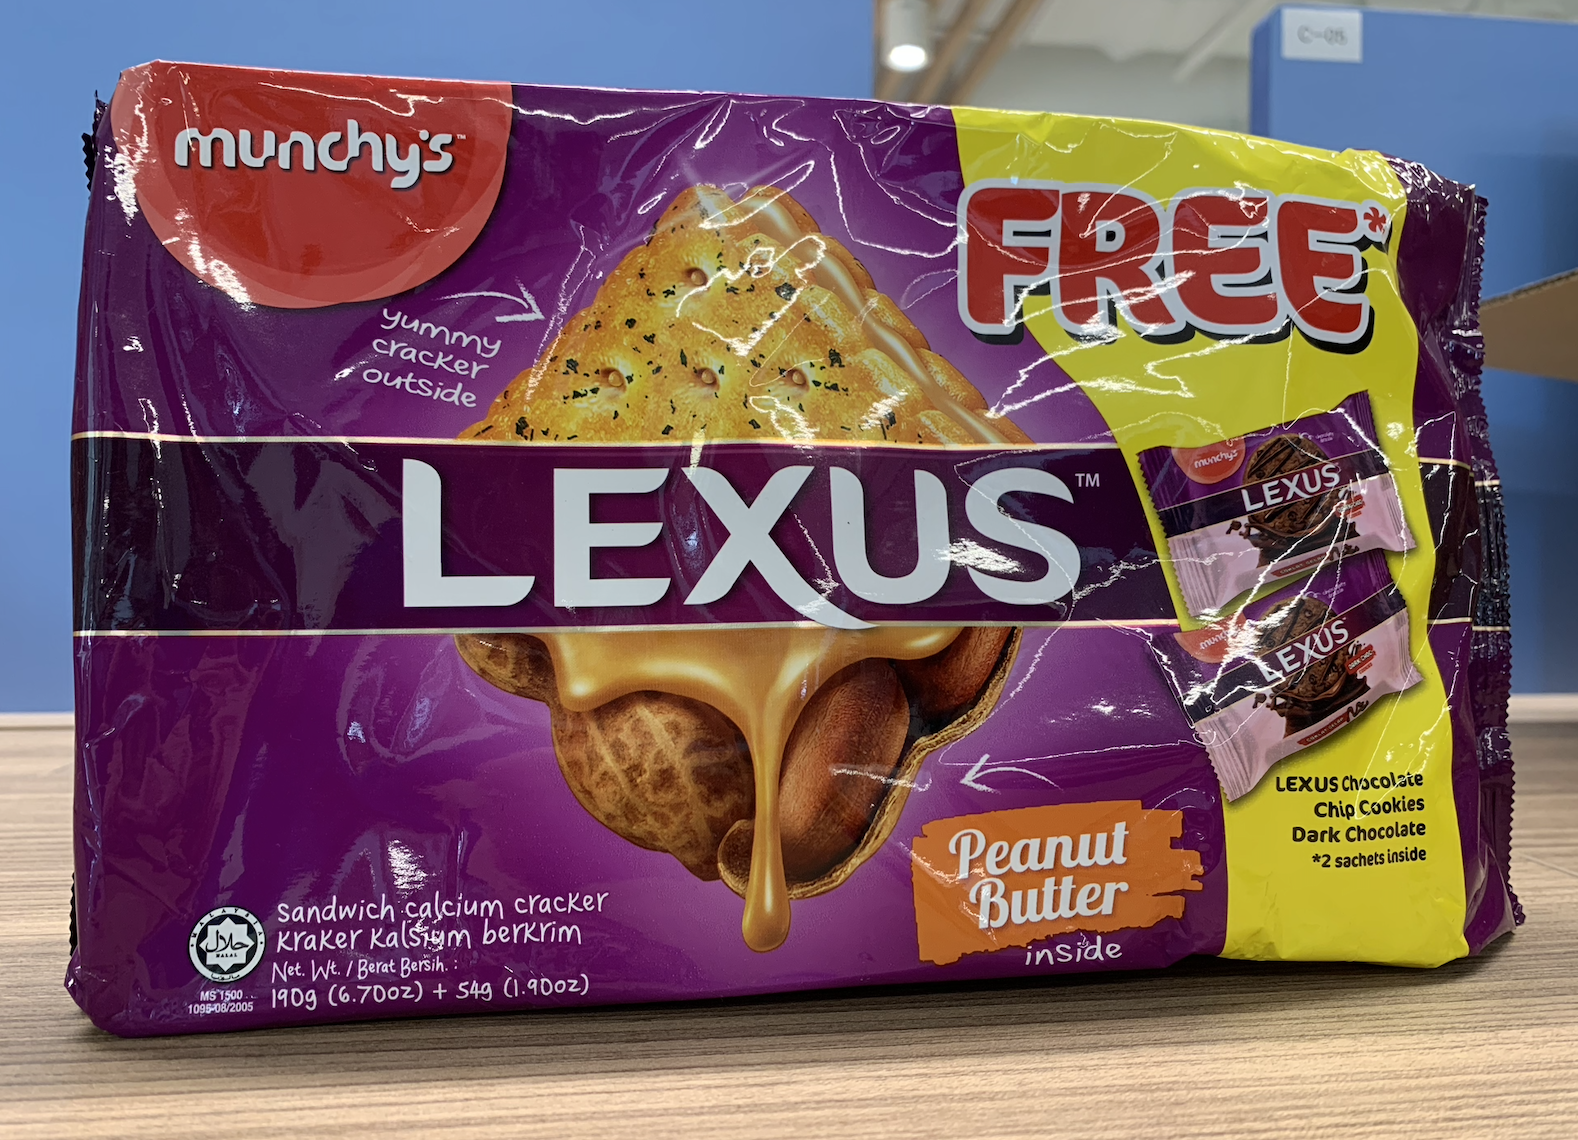cookies_100g-199g: (129, 98, 1451, 990)
